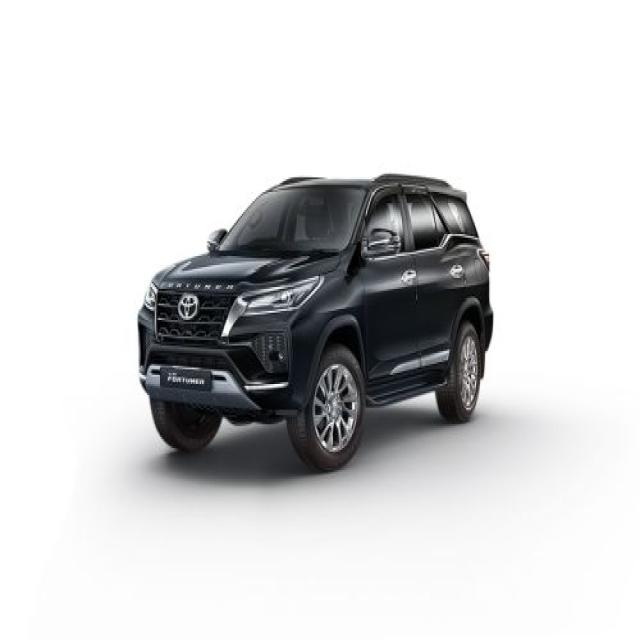light_vehicle: (136, 173, 494, 474)
